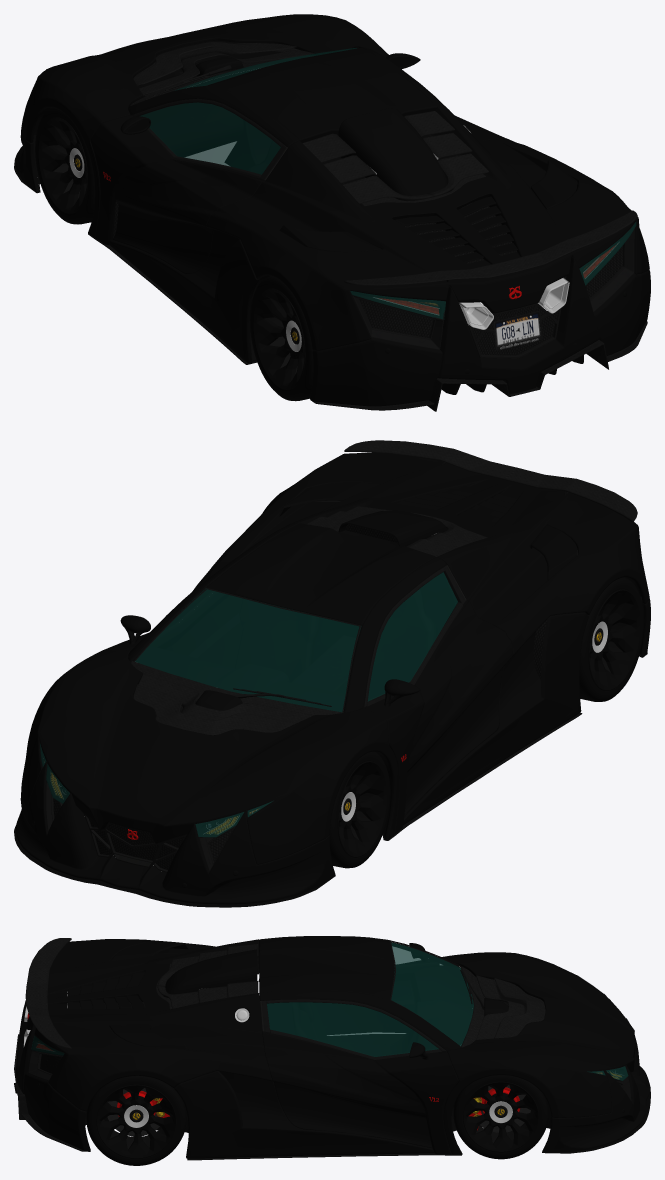
The model's file is fictional_supercar_-_v12_goblin.glb.
3 views of the same model, one above another, from view 1: azimuth 30°, elevation 25°; view 2: azimuth 150°, elevation 25°; view 3: azimuth 270°, elevation 25° (orthographic). The views are drawn at different scales.
Visible parts, largest first — view 1: clearcoat, car_body, car_glass, car_wheel_BL, car_wheel_FL; view 2: clearcoat, car_body, car_glass, car_wheel_BL, car_wheel_FL; view 3: clearcoat, car_body, car_glass, car_wheel_BR, car_wheel_FR.
Part boxes in pixels (<box>): clearcoat: <box>15,14,650,406</box>; car_body: <box>14,40,647,411</box>; car_glass: <box>140,48,636,319</box>; car_wheel_BL: <box>250,276,313,401</box>; car_wheel_FL: <box>35,107,94,224</box>; clearcoat: <box>15,453,650,904</box>; car_body: <box>14,440,647,907</box>; car_glass: <box>40,572,457,837</box>; car_wheel_BL: <box>579,577,644,701</box>; car_wheel_FL: <box>329,751,390,868</box>; clearcoat: <box>16,936,649,1158</box>; car_body: <box>14,938,650,1160</box>; car_glass: <box>31,942,628,1080</box>; car_wheel_BR: <box>86,1075,186,1165</box>; car_wheel_FR: <box>453,1075,548,1159</box>.
Size of what is drawn, in the model's own units: 0.0565 by 0.0301 by 0.1181.
Materials: 4 (2 with a texture image).
